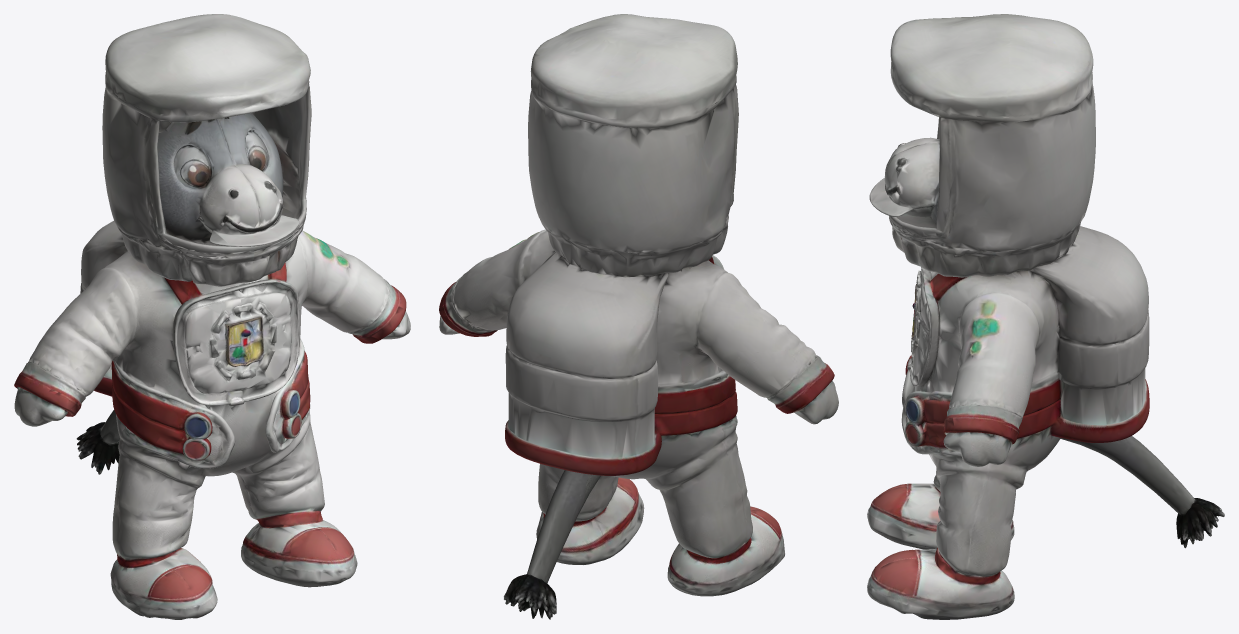
File: donkey.glb
3 views of the same model, side by side, from view 1: azimuth 30°, elevation 25°; view 2: azimuth 150°, elevation 25°; view 3: azimuth 270°, elevation 25° (orthographic).
Visible parts, largest first — view 1: tripo_node_ddfcc9ec-0a74-434d-808a-f82d6521769c; view 2: tripo_node_ddfcc9ec-0a74-434d-808a-f82d6521769c; view 3: tripo_node_ddfcc9ec-0a74-434d-808a-f82d6521769c.
Boxes of the visible parts, <box> form: tripo_node_ddfcc9ec-0a74-434d-808a-f82d6521769c: <box>14,14,410,619</box>; tripo_node_ddfcc9ec-0a74-434d-808a-f82d6521769c: <box>439,14,838,619</box>; tripo_node_ddfcc9ec-0a74-434d-808a-f82d6521769c: <box>867,14,1224,619</box>.
Bounding box in the file's own units: 0.7437 × 0.9794 × 0.5904.
1 material, 1 textured.
